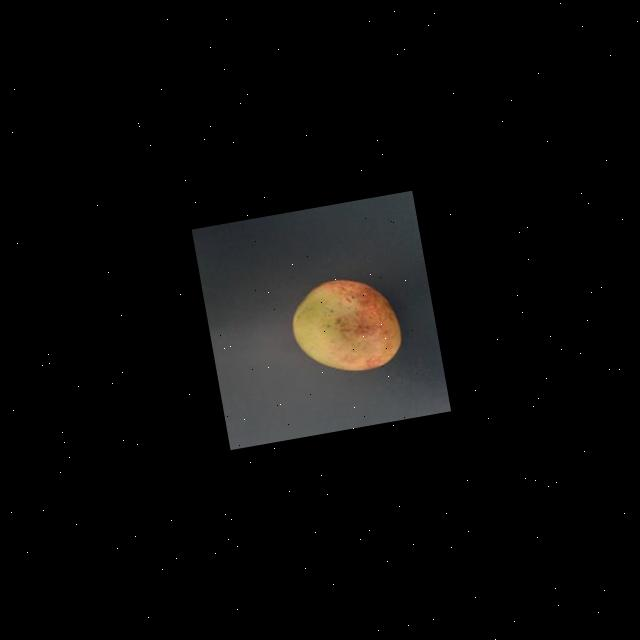Mango: (283, 269, 406, 382)
